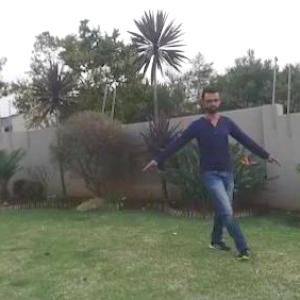land: (140, 86, 272, 248)
